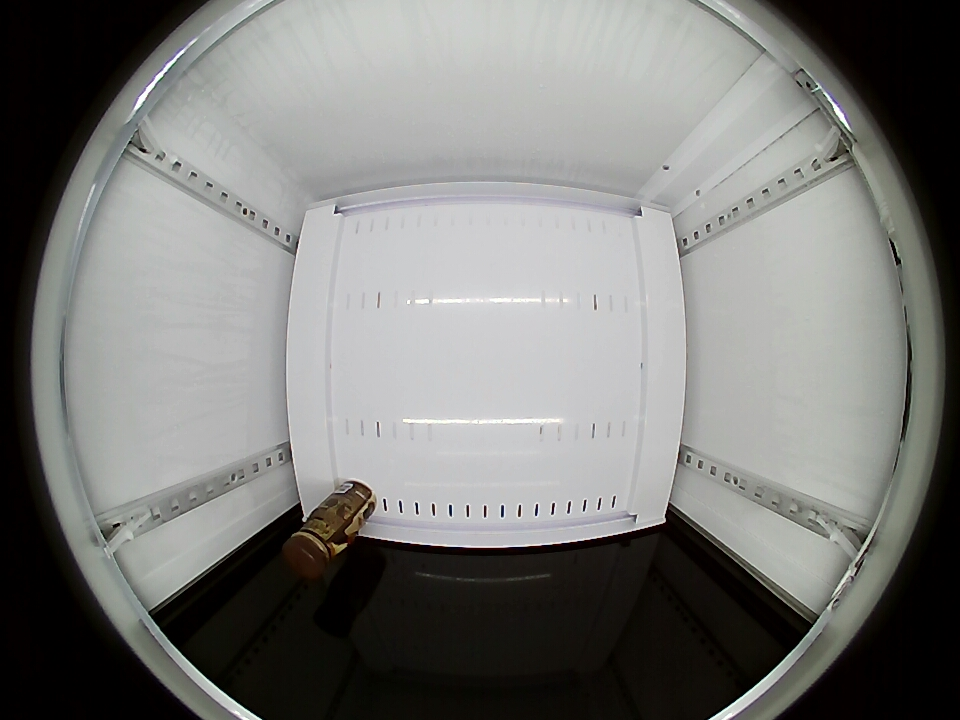lujikafei: (283, 509, 358, 577)
